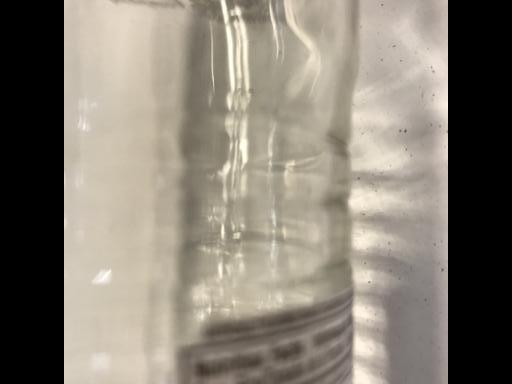glass: (170, 5, 350, 380)
